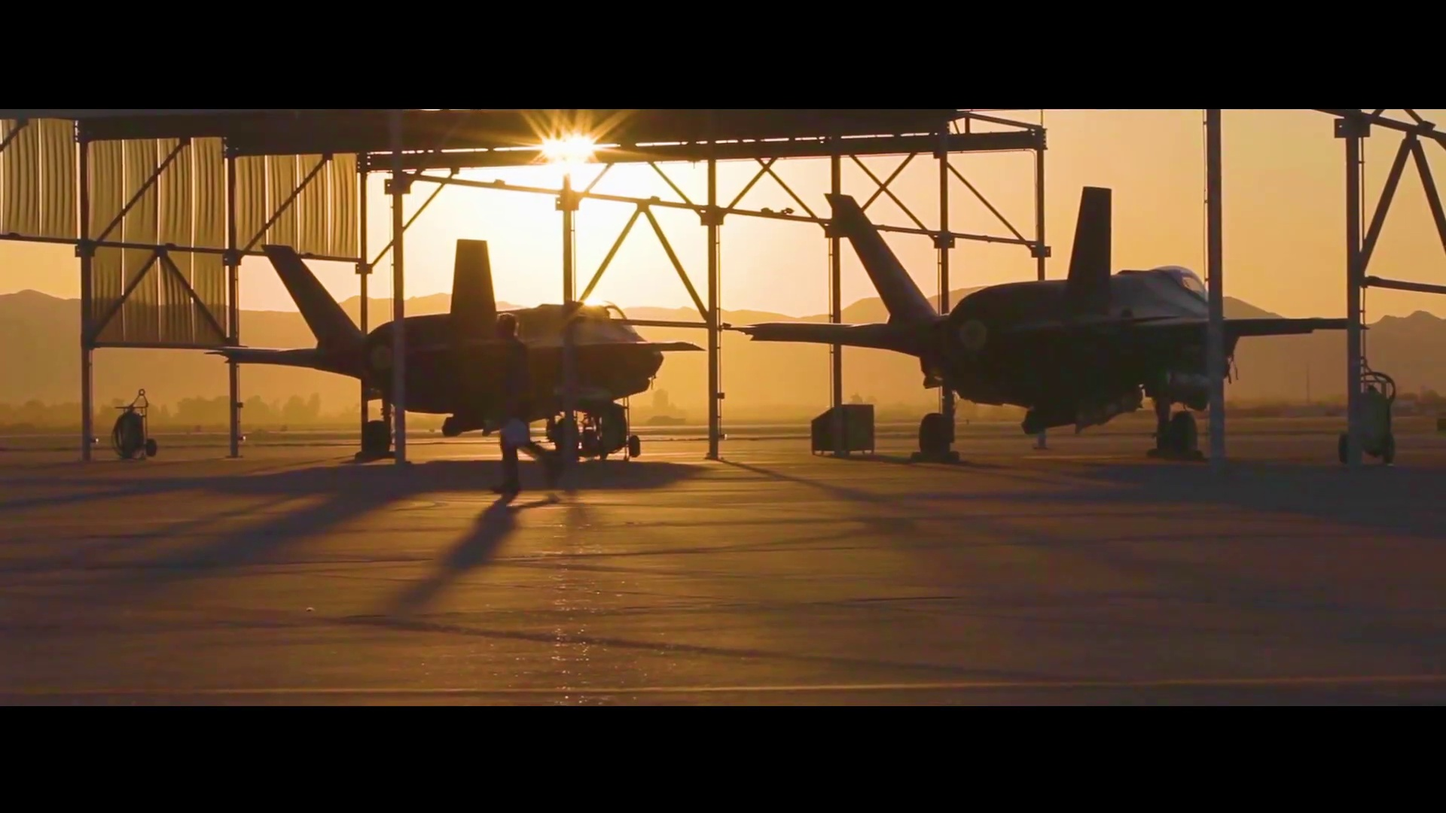F35: (739, 182, 1370, 480), (206, 234, 718, 498)
